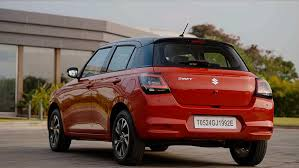Swift: (46, 24, 272, 165)
